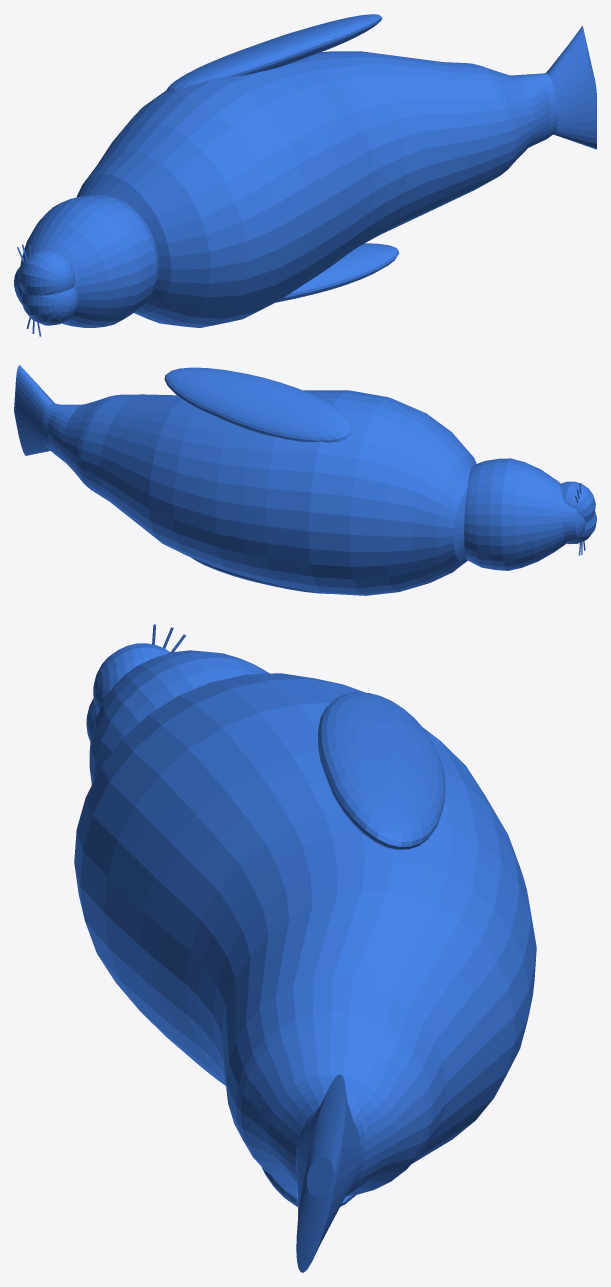
Rendered from Big Seal.gltf.
3 renders of one model, top to bottom at view 1: azimuth 30°, elevation 25°; view 2: azimuth 150°, elevation 25°; view 3: azimuth 270°, elevation 25°, orthographic. The views are drawn at different scales.
Parts seen in each view (by area): view 1: Sphere.013; view 2: Sphere.013; view 3: Sphere.013.
Boxes of the visible parts, <box> form: Sphere.013: <box>14,14,596,336</box>; Sphere.013: <box>14,365,596,595</box>; Sphere.013: <box>74,624,536,1272</box>.
Size of the model in its own units: 0.1066 by 0.0388 by 0.0402.
